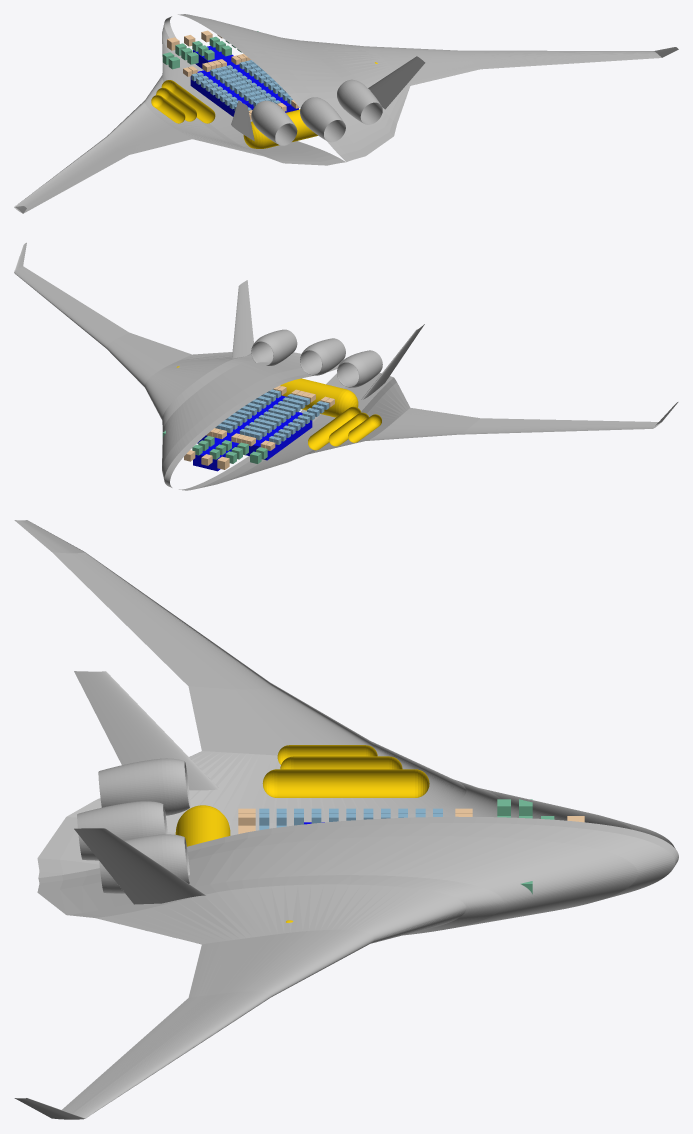
3 renders of one model, top to bottom at view 1: azimuth 30°, elevation 25°; view 2: azimuth 150°, elevation 25°; view 3: azimuth 270°, elevation 25°, orthographic. The views are drawn at different scales.
Visible parts, largest first — view 1: Renderer Node; view 2: Renderer Node; view 3: Renderer Node.
Boxes of the visible parts, x1=… form: Renderer Node: x1=14, y1=14, x2=678, y2=213; Renderer Node: x1=14, y1=242, x2=678, y2=490; Renderer Node: x1=14, y1=520, x2=678, y2=1119.
Size of the model in its own units: 64 by 8.5 by 31.12.
